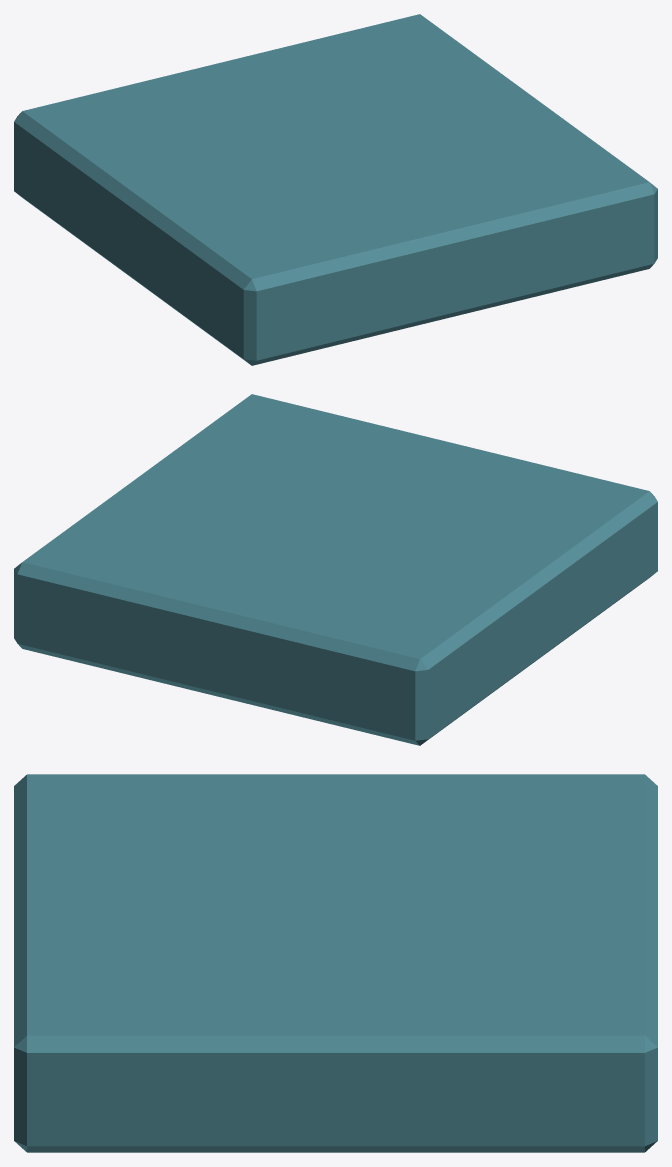
File: Floor.fbx
3 views of the same model, one above another, from view 1: azimuth 30°, elevation 25°; view 2: azimuth 150°, elevation 25°; view 3: azimuth 270°, elevation 25° (orthographic). The views are drawn at different scales.
Parts seen in each view (by area): view 1: pCube1; view 2: pCube1; view 3: pCube1.
Boxes of the visible parts, x1,y1,x2,y2 form: pCube1: (14,14,657,365); pCube1: (14,394,657,745); pCube1: (14,774,657,1152).
Bounding box in the file's own units: 1 × 0.2 × 1.
